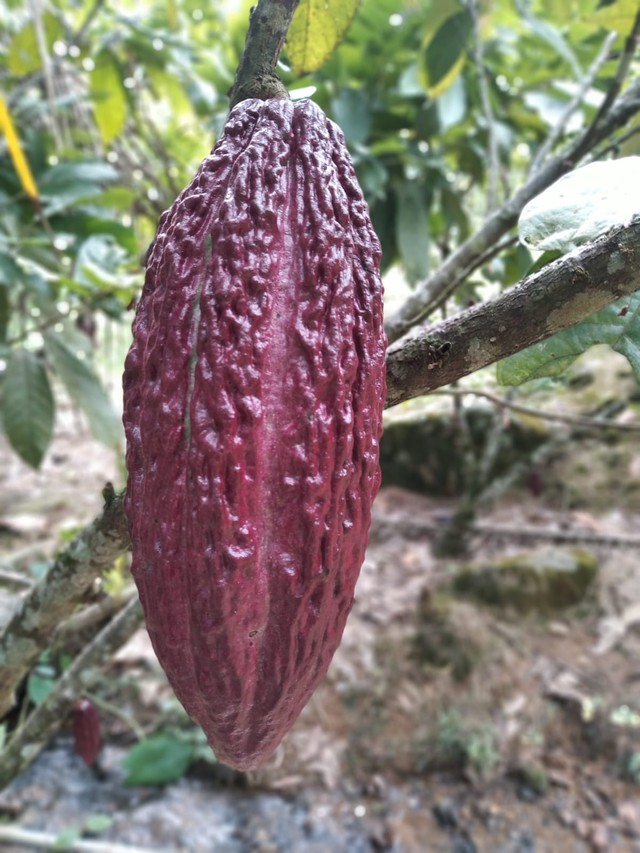Health: (78, 65, 434, 781)
